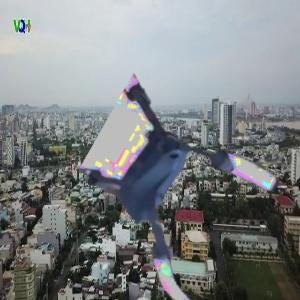drone: (76, 107, 267, 298)
